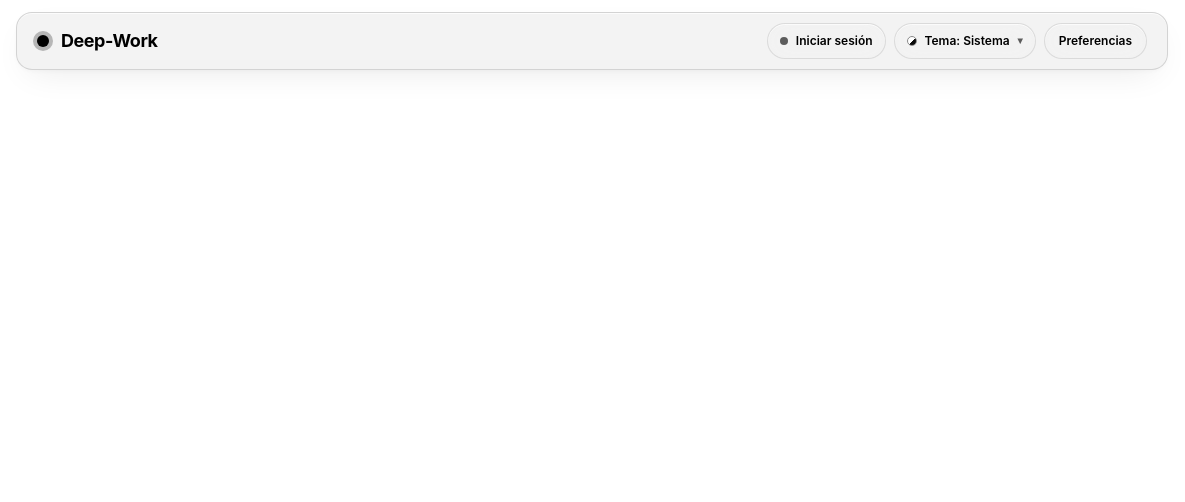
Scenario: UI Components Security & Input Validation › lists and selects all color palettes in HeaderBar without inline styles
This screenshot has width=1185, height=502.
Later steps or results of the test are not shown.
Click the button with aria-label "Seleccionar tema" at (965, 41), box [894,23,1036,59]
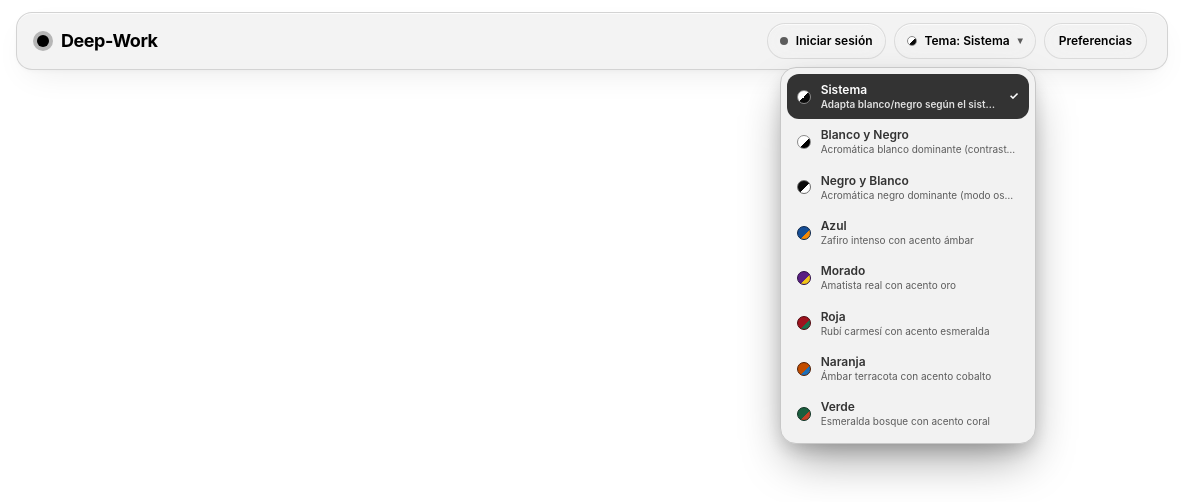
Expected: the menu item "Morado Amatista real con acento oro" is shown, [787,255,1029,301]
